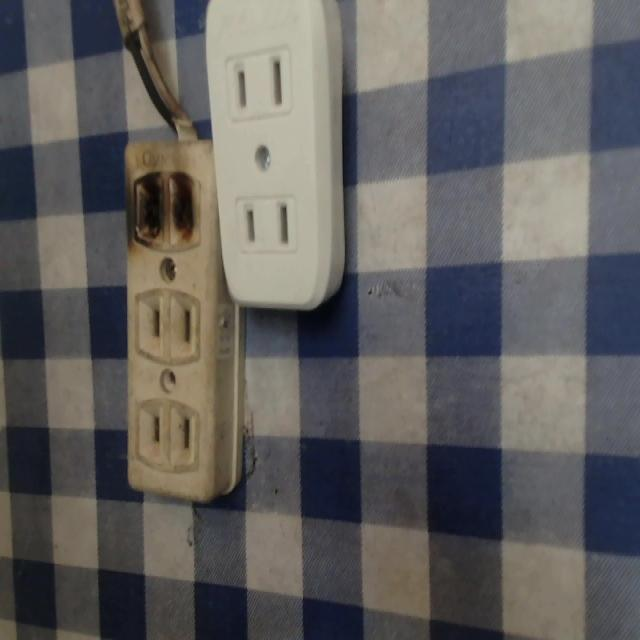-: (117, 171, 204, 252)
